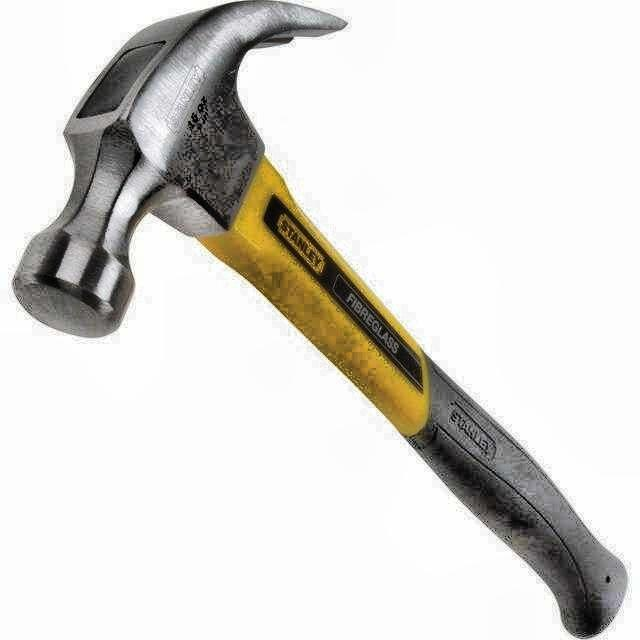hammer: (9, 5, 632, 639)
